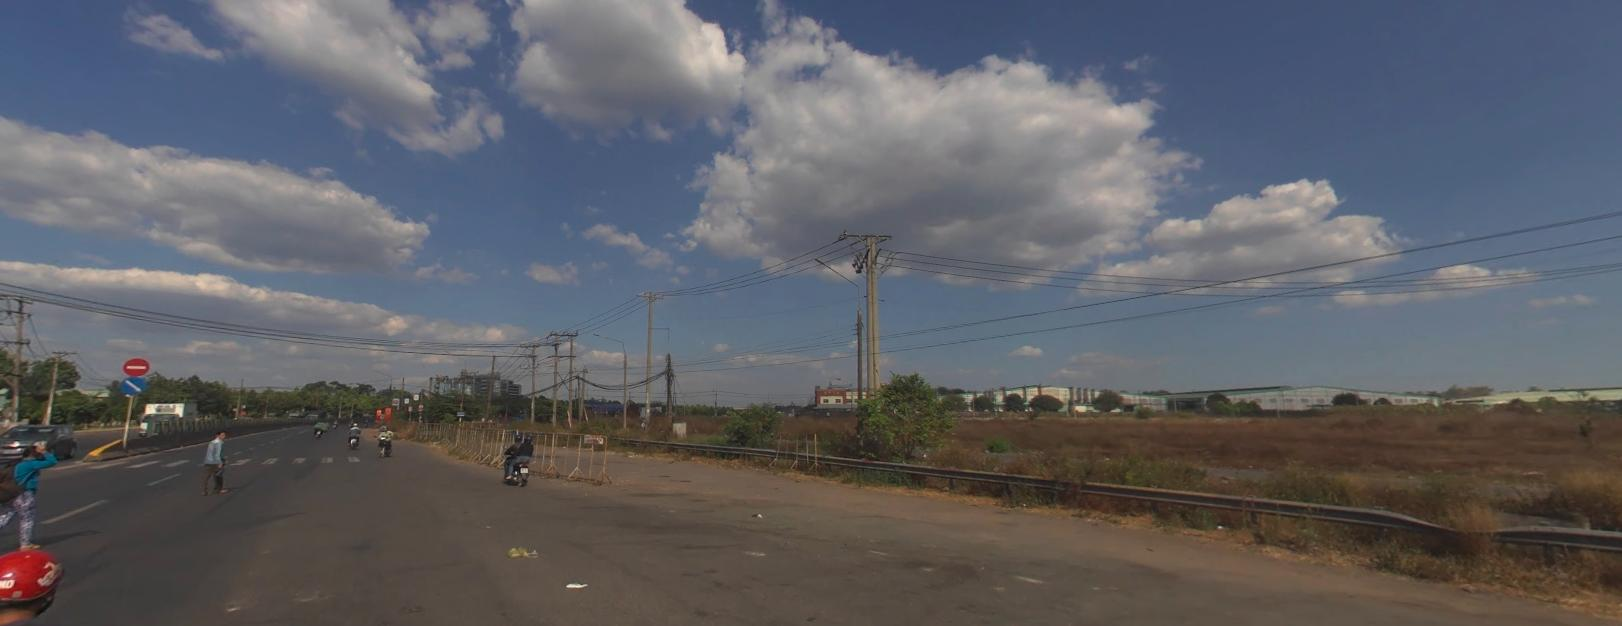Cam nguoc chieu: (123, 356, 148, 374)
Hieu lenh: (121, 375, 146, 393)
